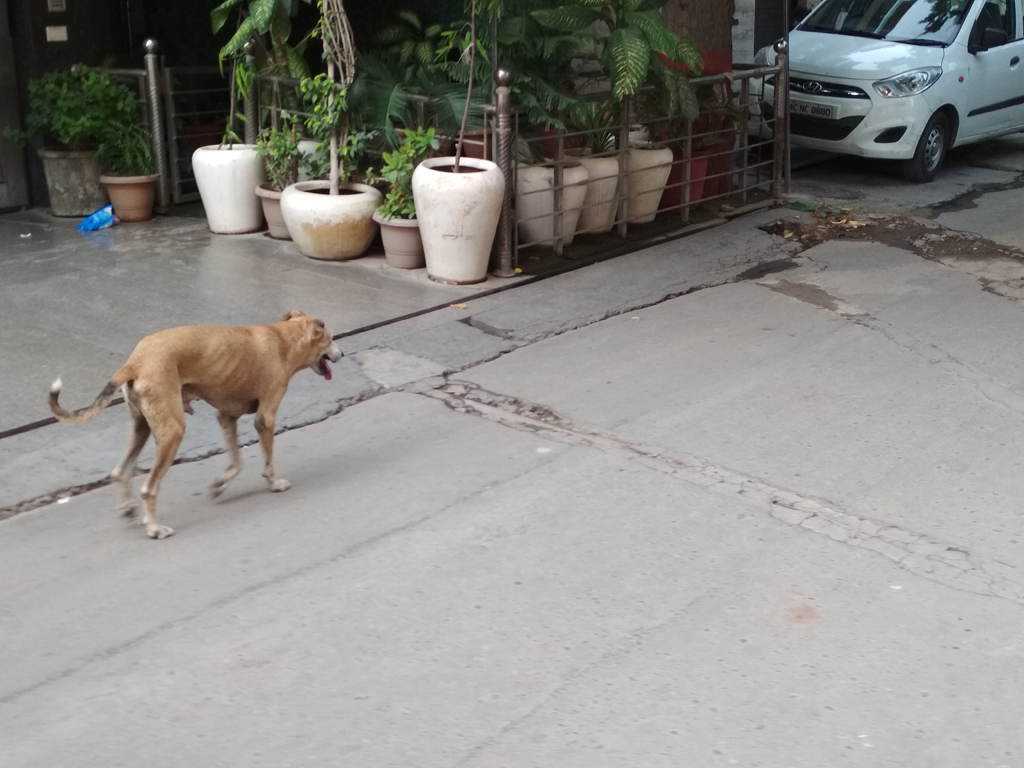dog: (49, 310, 346, 539)
